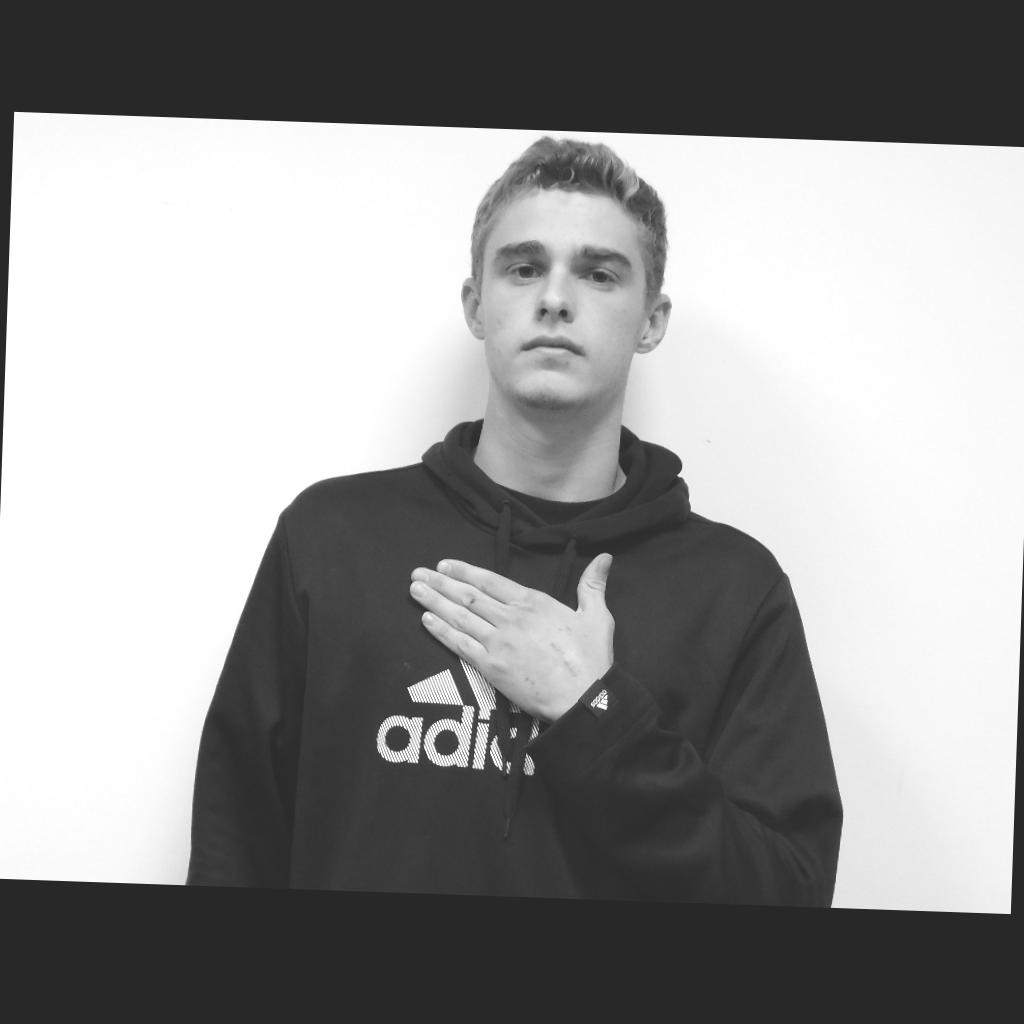my: (406, 544, 618, 716)
